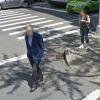Crosswalk: (3, 7, 70, 47)
